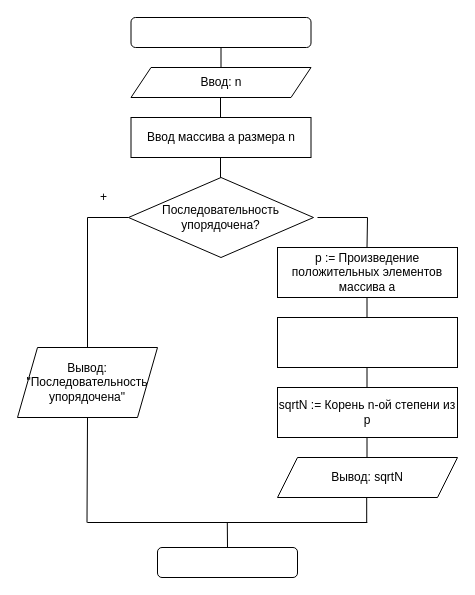
The diagram is 475 pixels wide and 595 high, and some of its shapes have lost their labels. Here are the shapes that lost their labels. From the top down, the centre of each, then its label:
At (220,32): "Начало".
At (367,342): "n := Количество положительных элементов в массиве a".
At (227,562): "Конец".
